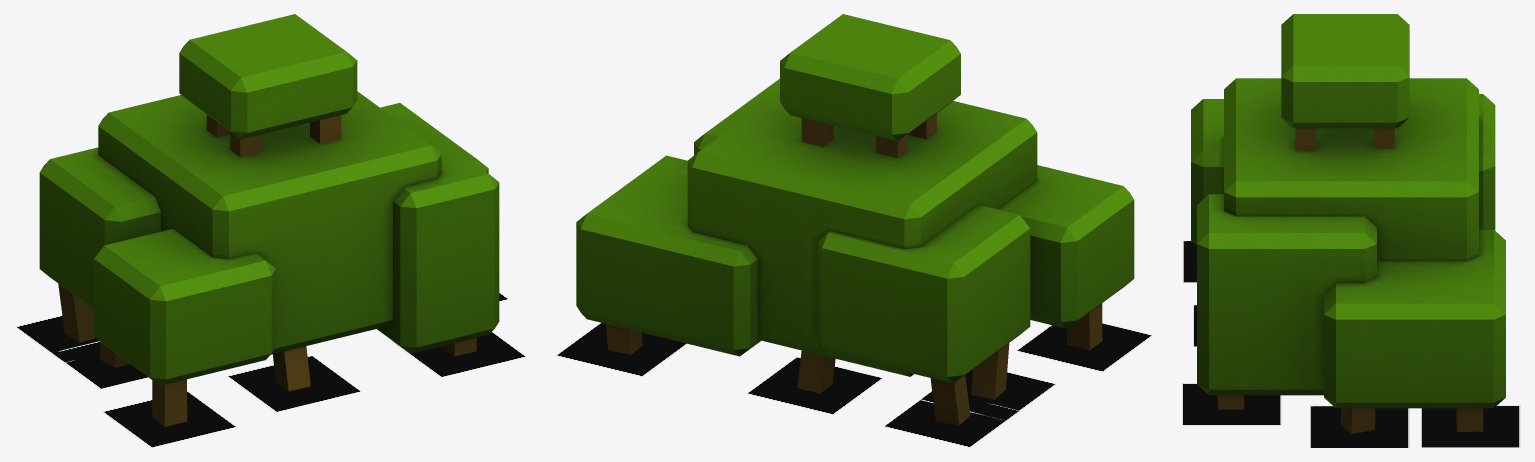
File: 3x2_bush.FBX
The picture shows the model from 3 angles, left to right: view 1: azimuth 30°, elevation 25°; view 2: azimuth 150°, elevation 25°; view 3: azimuth 270°, elevation 25°; orthographic projection.
Visible parts, largest first — view 1: 3x2_bush, 3x2_bush_soft_shadow; view 2: 3x2_bush, 3x2_bush_soft_shadow; view 3: 3x2_bush, 3x2_bush_soft_shadow.
Boxes of the visible parts, x1,y1,x2,y2 form: 3x2_bush: [39, 14, 499, 426]; 3x2_bush_soft_shadow: [15, 292, 525, 447]; 3x2_bush: [576, 14, 1134, 425]; 3x2_bush_soft_shadow: [555, 322, 1152, 447]; 3x2_bush: [1191, 14, 1505, 434]; 3x2_bush_soft_shadow: [1182, 240, 1520, 447].
Size of the model in its own units: 2942 by 2037 by 2031.
